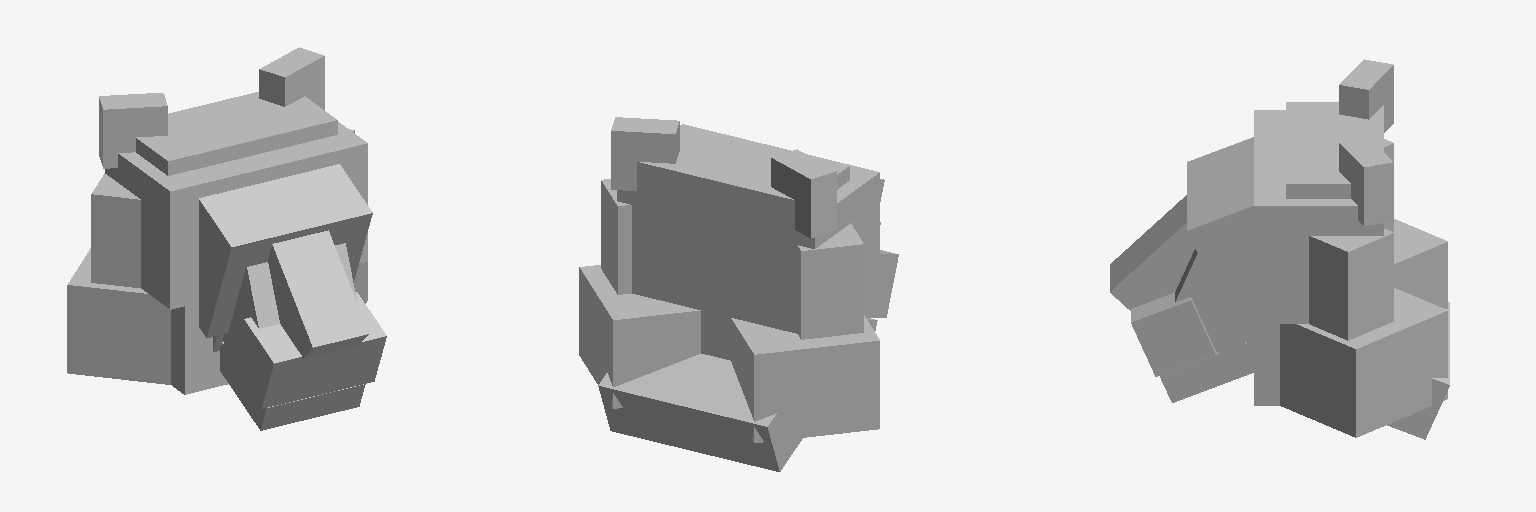
File: tiger_head.obj
3 renders of one model, left to right at view 1: azimuth 30°, elevation 25°; view 2: azimuth 150°, elevation 25°; view 3: azimuth 270°, elevation 25°, orthographic.
Parts seen in each view (by area): view 1: Element #19, Element #43, Element #15, Element #16, Element #1, Element #20, Element #14, Element #8, Element #21, Element #9, Element #5, Element #13; view 2: Element #43, Element #15, Element #7, Element #16, Element #12, Element #14, Element #8, Element #5, Element #21, Element #11, Element #20; view 3: Element #12, Element #43, Element #19, Element #11, Element #16, Element #1, Element #20, Element #15, Element #5, Element #8, Element #9, Element #13 (+2 smaller).
Part boxes in pixels (bbox=[...]): Element #19: bbox=[199, 164, 372, 337]; Element #43: bbox=[105, 122, 367, 309]; Element #15: bbox=[67, 248, 170, 384]; Element #16: bbox=[136, 92, 337, 175]; Element #1: bbox=[267, 230, 368, 359]; Element #20: bbox=[232, 292, 386, 408]; Element #14: bbox=[91, 173, 140, 287]; Element #8: bbox=[99, 93, 167, 168]; Element #21: bbox=[171, 273, 228, 394]; Element #9: bbox=[220, 342, 365, 430]; Element #5: bbox=[259, 47, 324, 109]; Element #13: bbox=[223, 243, 357, 356]; Element #43: bbox=[617, 124, 879, 331]; Element #15: bbox=[731, 315, 879, 442]; Element #7: bbox=[598, 354, 802, 471]; Element #16: bbox=[632, 125, 849, 259]; Element #12: bbox=[579, 265, 700, 408]; Element #14: bbox=[798, 223, 863, 339]; Element #8: bbox=[771, 149, 836, 237]; Element #5: bbox=[611, 117, 679, 190]; Element #21: bbox=[633, 269, 865, 360]; Element #11: bbox=[601, 179, 631, 294]; Element #20: bbox=[866, 250, 898, 317]; Element #12: bbox=[1280, 288, 1447, 437]; Element #43: bbox=[1254, 110, 1383, 323]; Element #19: bbox=[1187, 137, 1253, 339]; Element #11: bbox=[1309, 229, 1393, 340]; Element #16: bbox=[1286, 102, 1383, 198]; Element #1: bbox=[1110, 195, 1194, 310]; Element #20: bbox=[1131, 293, 1215, 376]; Element #15: bbox=[1394, 219, 1447, 308]; Element #5: bbox=[1339, 137, 1393, 226]; Element #8: bbox=[1339, 59, 1393, 132]; Element #9: bbox=[1160, 341, 1253, 402]; Element #13: bbox=[1175, 249, 1245, 359].
Size of the model in its own units: 10.66 by 9.65 by 10.45.